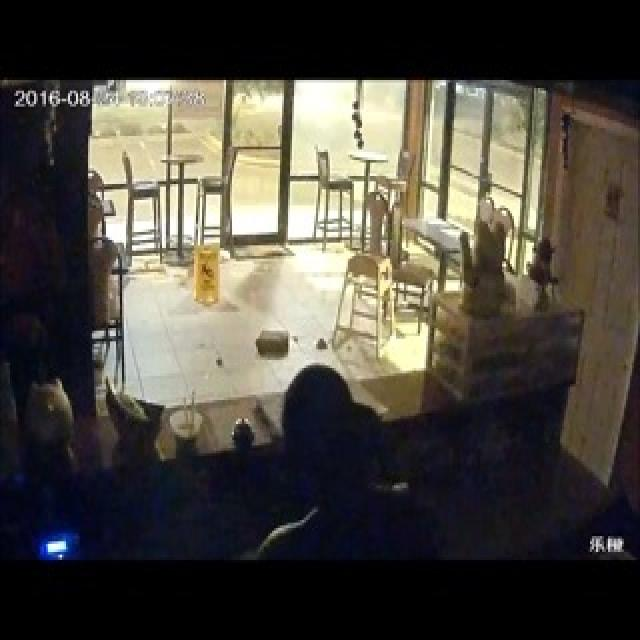thief: (254, 367, 405, 478)
